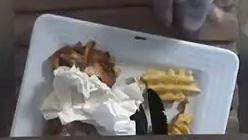fries: (142, 69, 201, 134)
